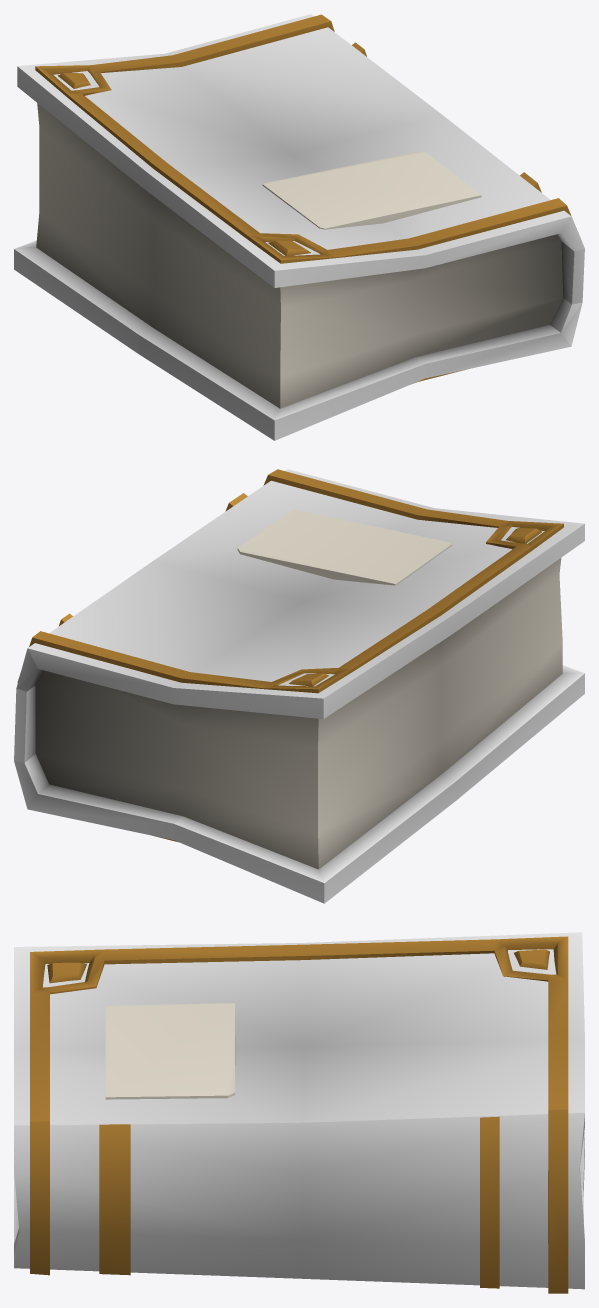
The model's file is obj_bookClosed_C_LOW.FBX.
3 views of the same model, one above another, from view 1: azimuth 30°, elevation 25°; view 2: azimuth 150°, elevation 25°; view 3: azimuth 270°, elevation 25° (orthographic). The views are drawn at different scales.
Parts seen in each view (by area): view 1: obj_bookClosed_C_LOW; view 2: obj_bookClosed_C_LOW; view 3: obj_bookClosed_C_LOW.
Boxes of the visible parts, x1,y1,x2,y2 form: obj_bookClosed_C_LOW: (14, 14, 584, 440); obj_bookClosed_C_LOW: (14, 469, 584, 903); obj_bookClosed_C_LOW: (14, 932, 584, 1293).
Size of the model in its own units: 0.7882 by 0.4936 by 1.11.
